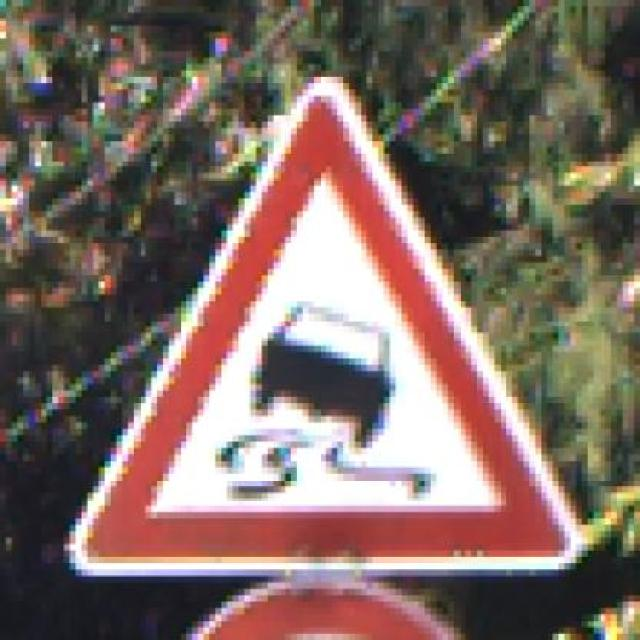Slippery Road Ahead: (52, 64, 600, 588)
